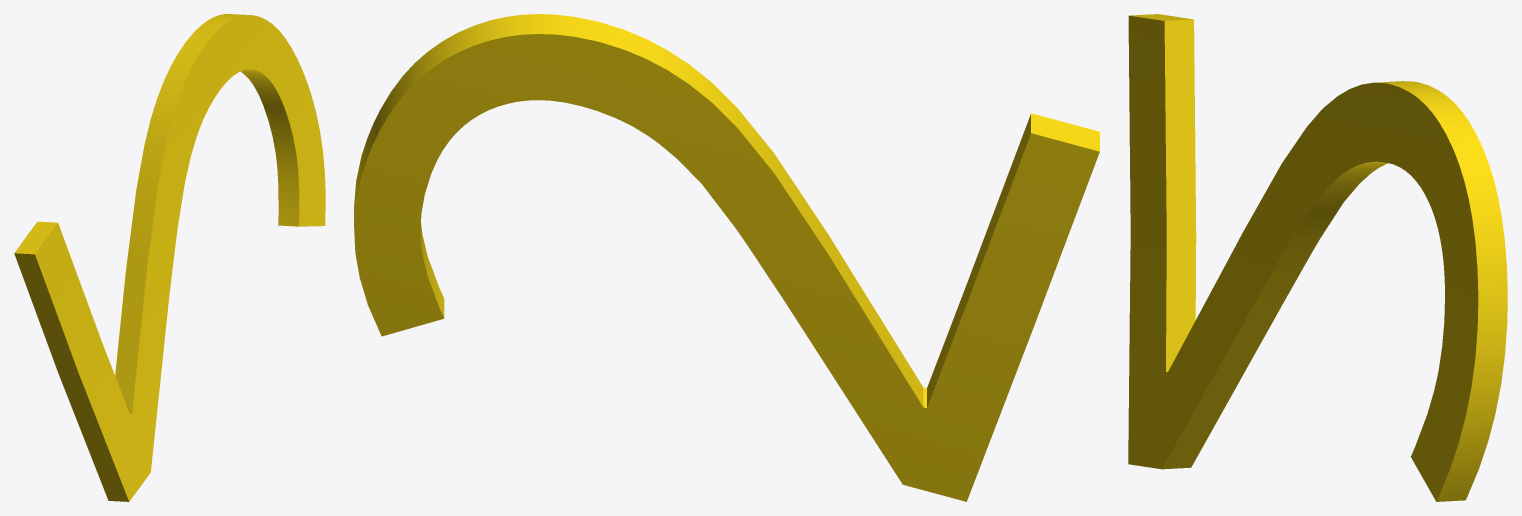
File: Number_2.gltf
The picture shows the model from 3 angles, left to right: view 1: azimuth 30°, elevation 25°; view 2: azimuth 150°, elevation 25°; view 3: azimuth 270°, elevation 25°; orthographic projection. The views are drawn at different scales.
Visible parts, largest first — view 1: Sub_8_Cell_1_3_Number_2; view 2: Sub_8_Cell_1_3_Number_2; view 3: Sub_8_Cell_1_3_Number_2.
Part boxes in pixels (x1,y1,x2,y2): Sub_8_Cell_1_3_Number_2: [14, 14, 325, 501]; Sub_8_Cell_1_3_Number_2: [354, 14, 1099, 501]; Sub_8_Cell_1_3_Number_2: [1128, 14, 1507, 501].
Bounding box in the file's own units: 0.0251 × 0.0207 × 0.0139.
